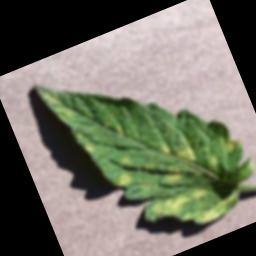Leaf_Mold: (141, 170, 244, 243), (158, 134, 198, 172), (219, 131, 243, 155), (110, 167, 135, 190), (81, 137, 96, 154)
